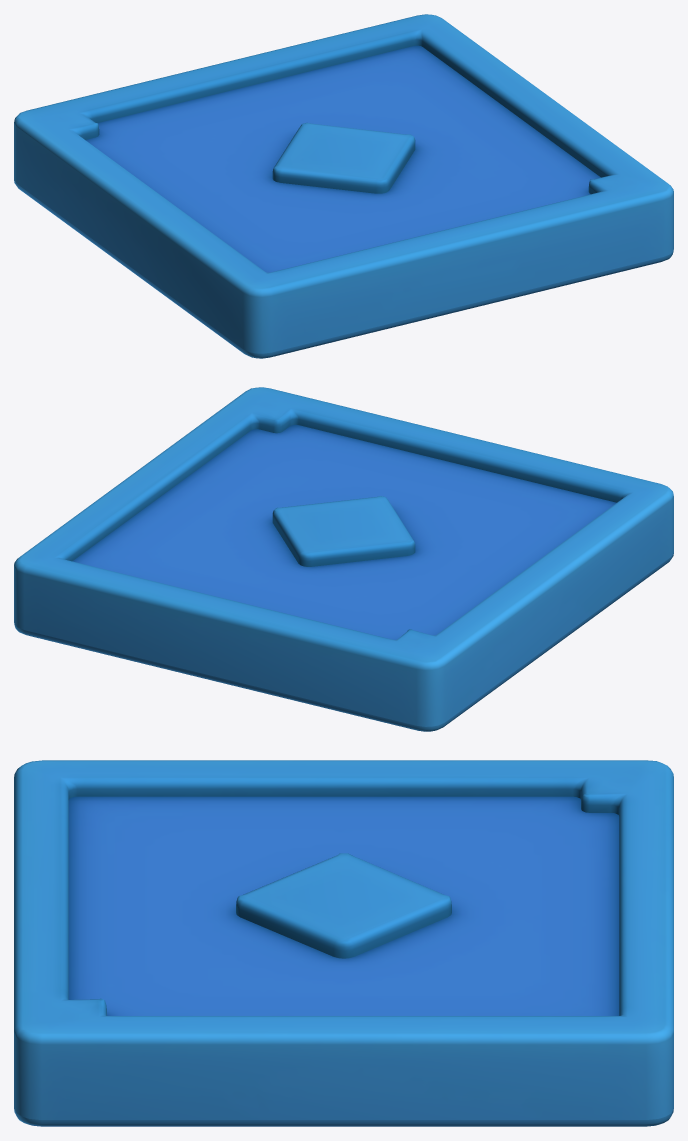
Rendered from SM_RunFoothold01.fbx.
The picture shows the model from 3 angles, top to bottom: view 1: azimuth 30°, elevation 25°; view 2: azimuth 150°, elevation 25°; view 3: azimuth 270°, elevation 25°; orthographic projection. The views are drawn at different scales.
Parts seen in each view (by area): view 1: SM_RunFoothold01; view 2: SM_RunFoothold01; view 3: SM_RunFoothold01.
Part boxes in pixels (left/top/right/bottom): SM_RunFoothold01: left=14, top=14, right=673, bottom=358; SM_RunFoothold01: left=14, top=387, right=673, bottom=731; SM_RunFoothold01: left=14, top=760, right=673, bottom=1126.
Size of the model in its own units: 450 by 70 by 450.
